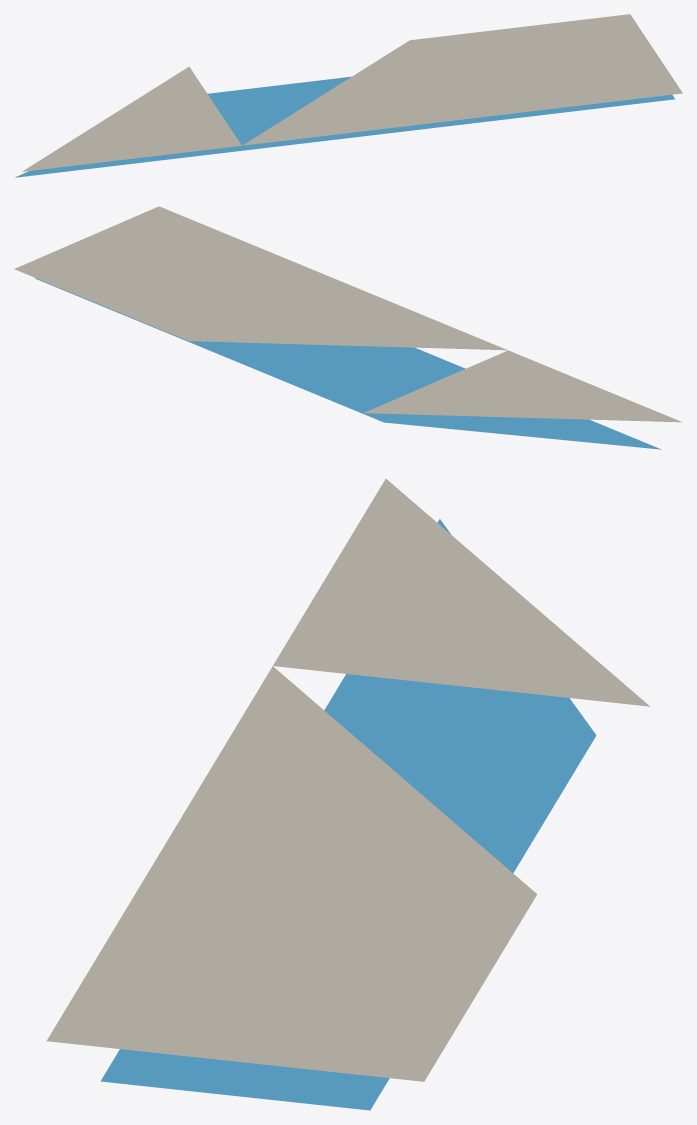
3 renders of one model, top to bottom at view 1: azimuth 30°, elevation 25°; view 2: azimuth 150°, elevation 25°; view 3: azimuth 270°, elevation 25°, orthographic. The views are drawn at different scales.
Parts seen in each view (by area): view 1: estructura_terreno, estructura_agua; view 2: estructura_terreno, estructura_agua; view 3: estructura_terreno, estructura_agua.
Part boxes in pixels (x1,y1,x2,y2): estructura_terreno: (22,14,682,171); estructura_agua: (14,76,674,177); estructura_terreno: (14,206,682,422); estructura_agua: (35,278,661,449); estructura_terreno: (46,479,649,1081); estructura_agua: (100,519,596,1110).
Bounding box in the file's own units: 15.38 × 0.41 × 6.51.
